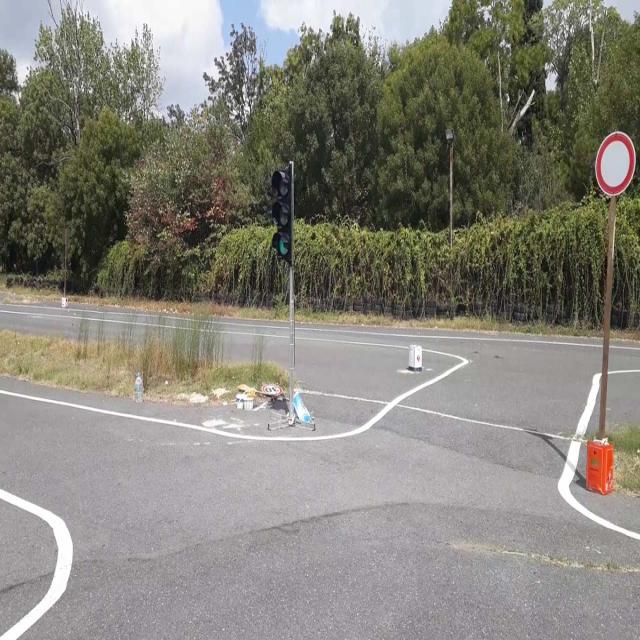yesil: (272, 168, 292, 260)
